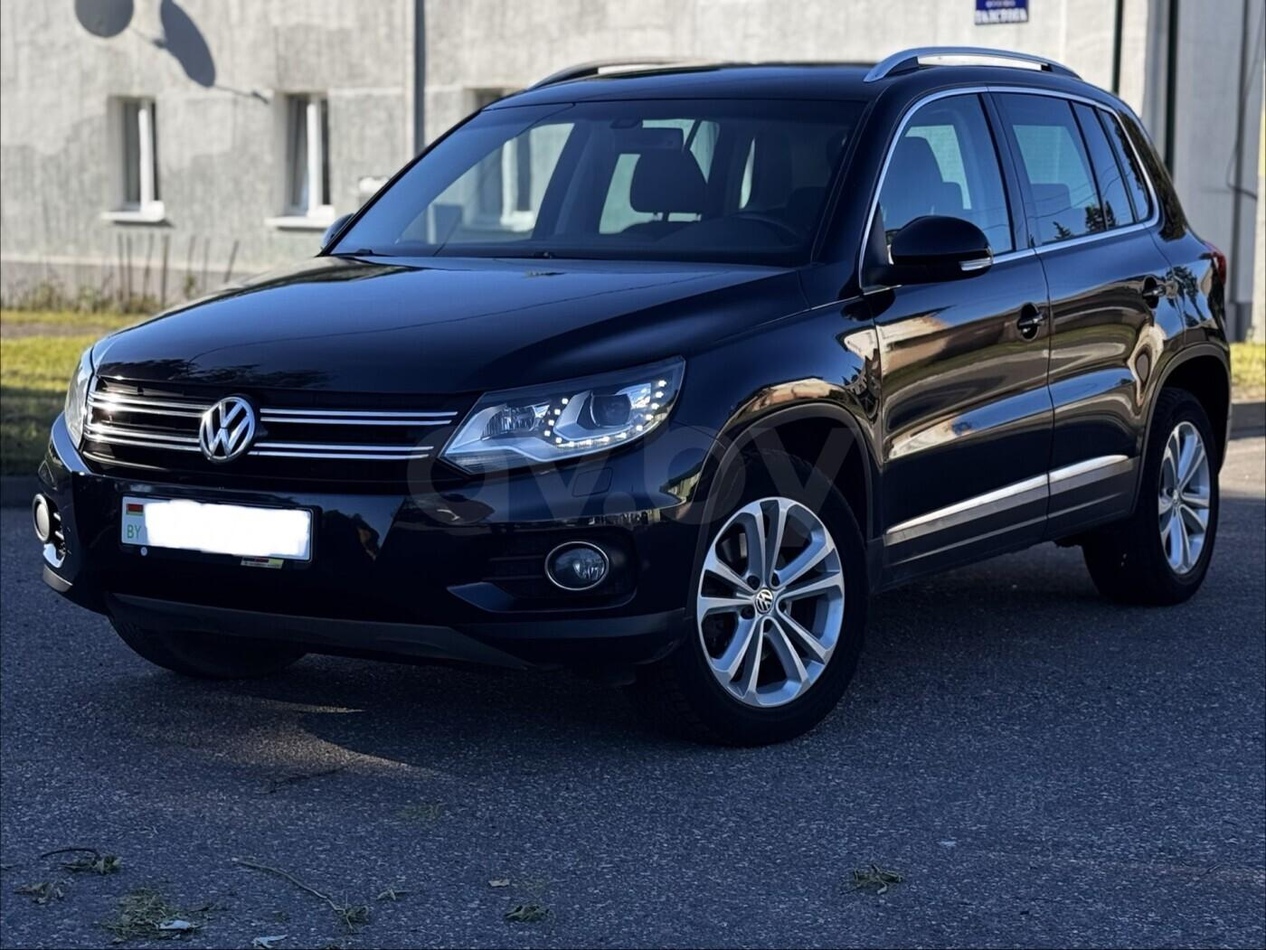Tiguan_2011-2018: (28, 53, 1232, 737)
